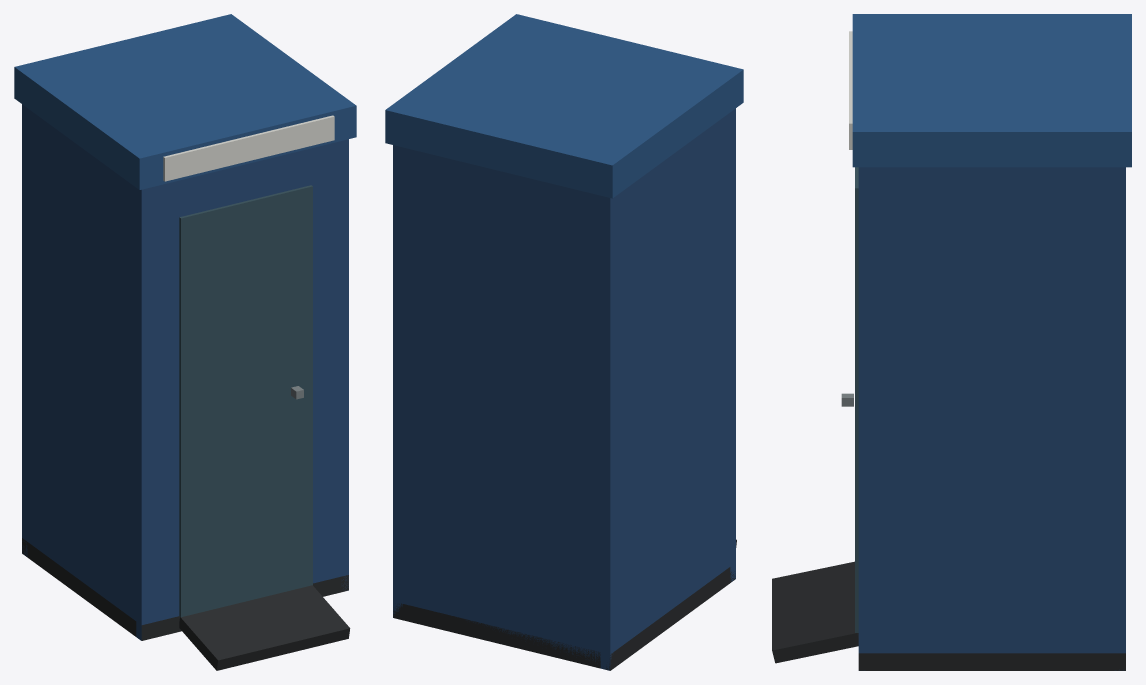
The model's file is payphone_booth.glb.
The picture shows the model from 3 angles, left to right: view 1: azimuth 30°, elevation 25°; view 2: azimuth 150°, elevation 25°; view 3: azimuth 270°, elevation 25°; orthographic projection. The views are drawn at different scales.
Parts seen in each view (by area): view 1: Shell, Door_L, Dressing; view 2: Shell, Dressing; view 3: Shell, Dressing, Door_L.
Boxes of the visible parts, x1,y1,x2,y2 form: Shell: (22,104,350,670); Door_L: (179,185,312,617); Dressing: (14,14,356,189); Shell: (393,108,736,670); Dressing: (385,14,743,198); Shell: (772,167,1125,670); Dressing: (849,14,1131,167); Door_L: (841,167,858,632).
Bounding box in the file's own units: 1.15 × 2.52 × 1.48.
